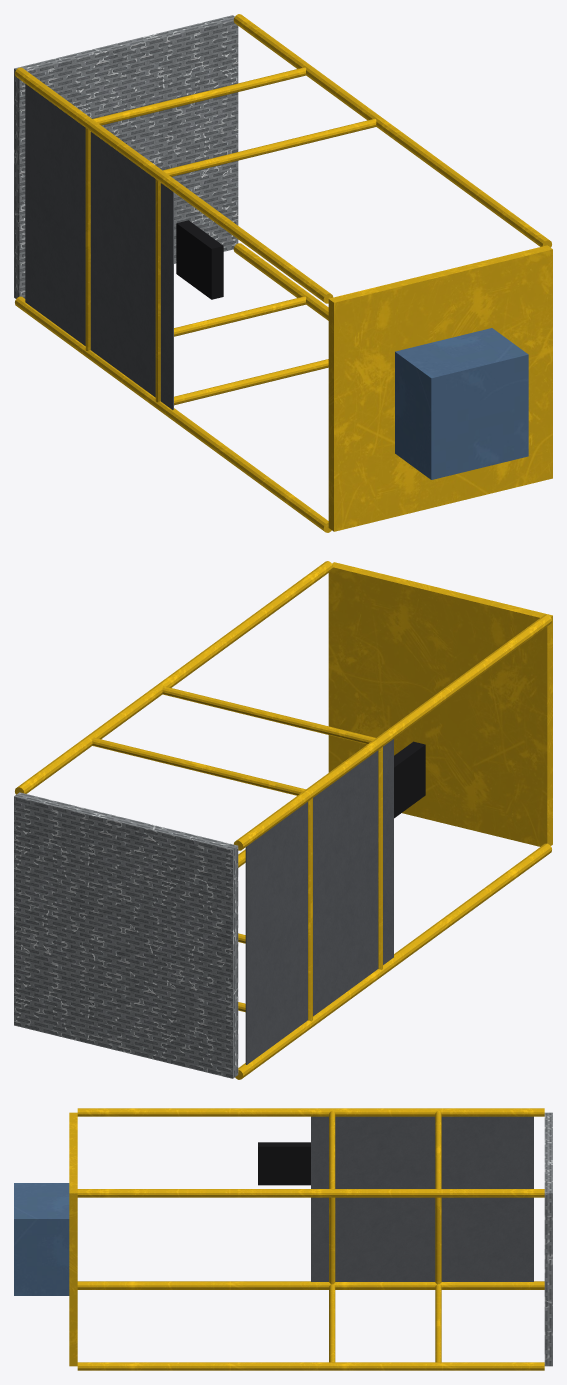
Rendered from lift_car.glb.
3 views of the same model, one above another, from view 1: azimuth 30°, elevation 25°; view 2: azimuth 150°, elevation 25°; view 3: azimuth 270°, elevation 25° (orthographic). The views are drawn at different scales.
Parts seen in each view (by area): view 1: lift_car; view 2: lift_car; view 3: lift_car.
Boxes of the visible parts, <box> form: lift_car: <box>14,14,552,532</box>; lift_car: <box>14,561,552,1079</box>; lift_car: <box>14,1108,552,1370</box>.
Size of the model in its own units: 0.94 by 0.94 by 2.54.
Materials: 5 (4 with a texture image).
